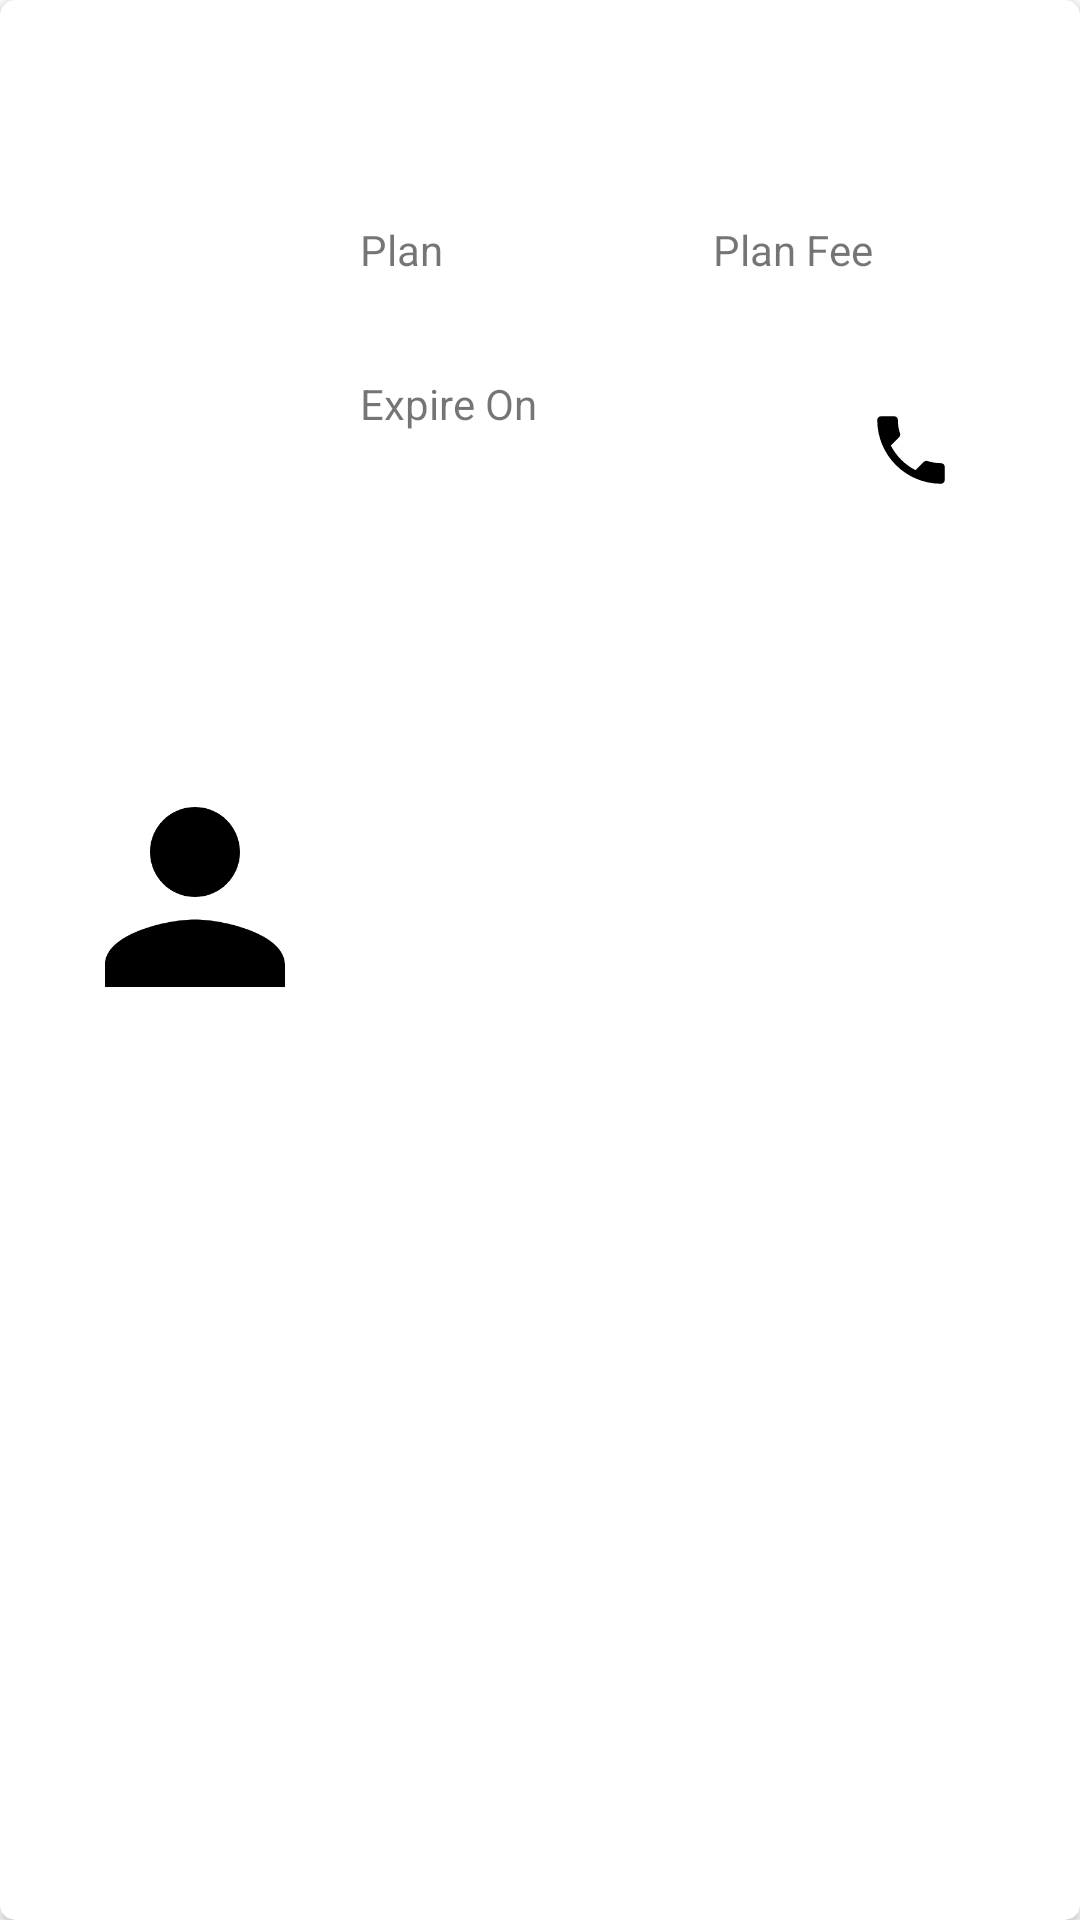

Icon bounding boxes for this 1080*1920 phone screenshot, format (left=x1, top=y1, right=x2, bottom=y2):
person: (left=105, top=807, right=285, bottom=987)
phone: (left=877, top=416, right=945, bottom=484)
